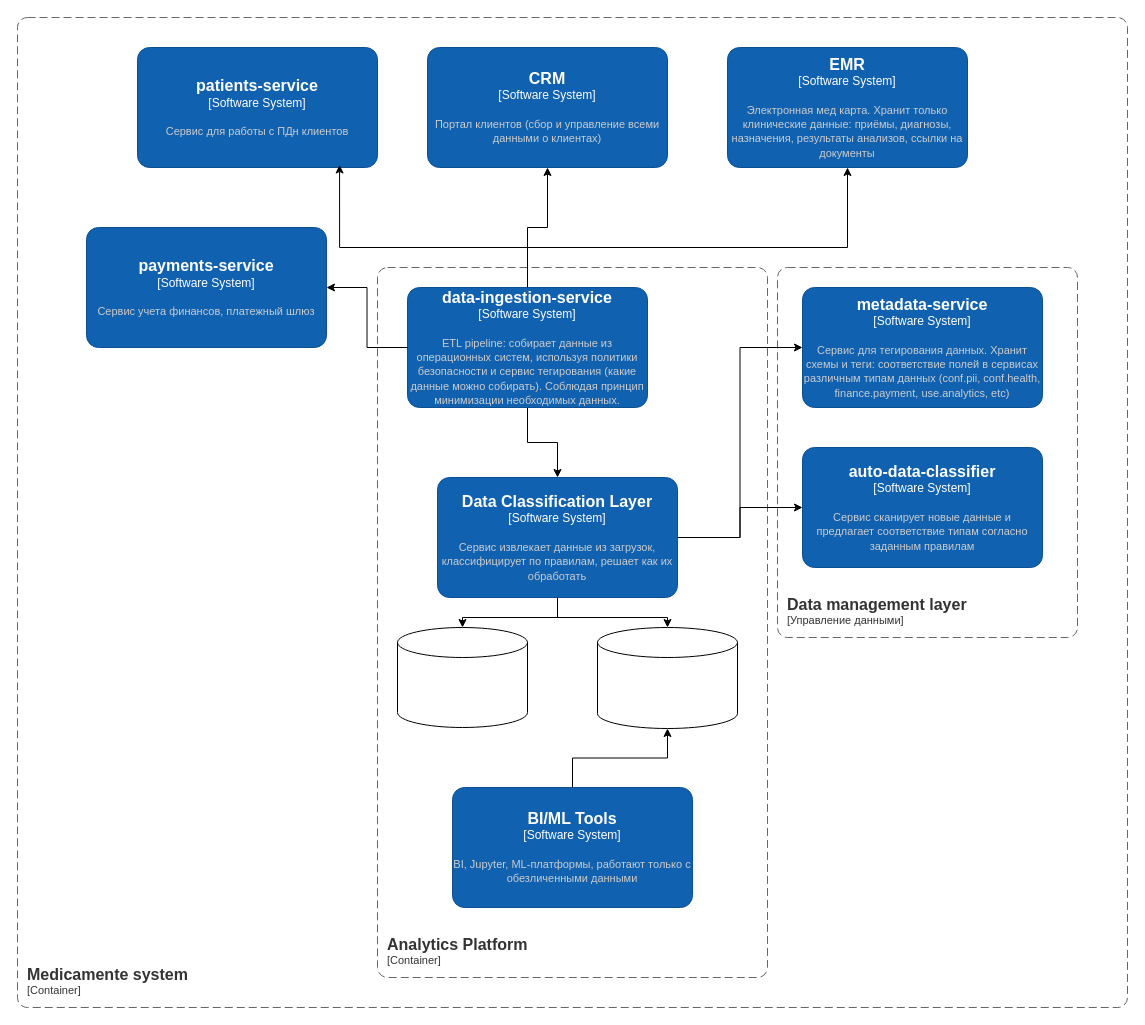
Some shapes in this 1145 by 1025 pixel diagram are drawn without their labels. Here are the shapes that lost their labels. From the top down, the centre of each, then its label:
At pixel 462 677: "Secure Raw Data Lake (слепок сырых данных)".
At pixel 667 677: "Anonymized Analytics Store".
